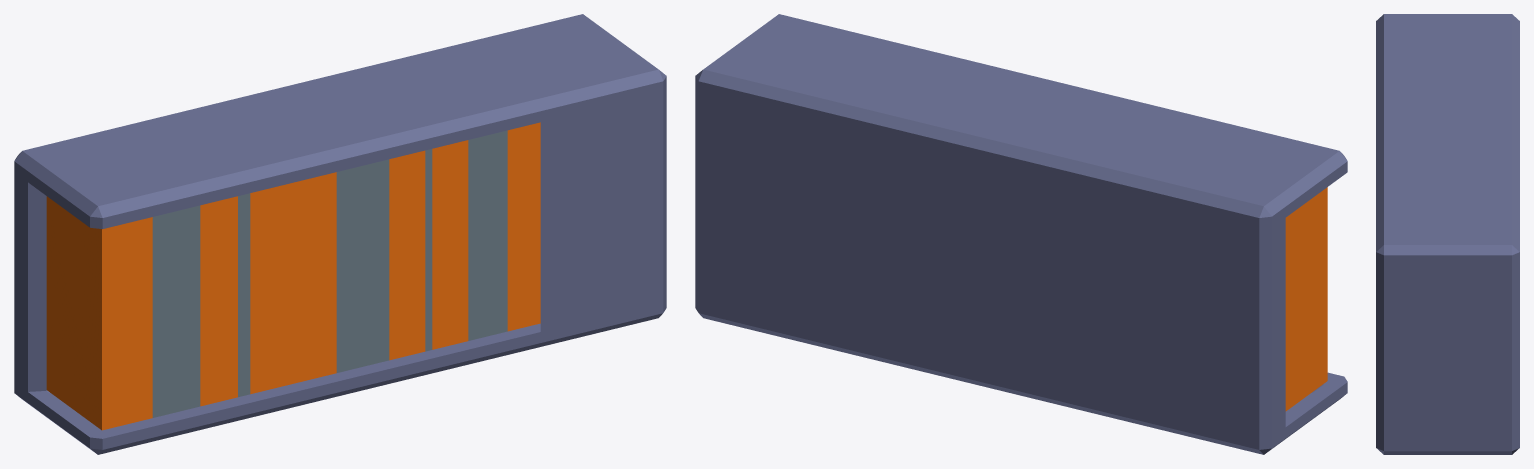
File: CbpBillboard F.fbx
The picture shows the model from 3 angles, left to right: view 1: azimuth 30°, elevation 25°; view 2: azimuth 150°, elevation 25°; view 3: azimuth 270°, elevation 25°; orthographic projection. The views are drawn at different scales.
Parts seen in each view (by area): view 1: CbpBillboard F; view 2: CbpBillboard F; view 3: CbpBillboard F.
Part boxes in pixels (x1,y1,x2,y2): CbpBillboard F: (14,14,666,454); CbpBillboard F: (695,14,1347,454); CbpBillboard F: (1376,14,1519,454).
Size of the model in its own units: 2.21 by 0.9097 by 0.5643.
